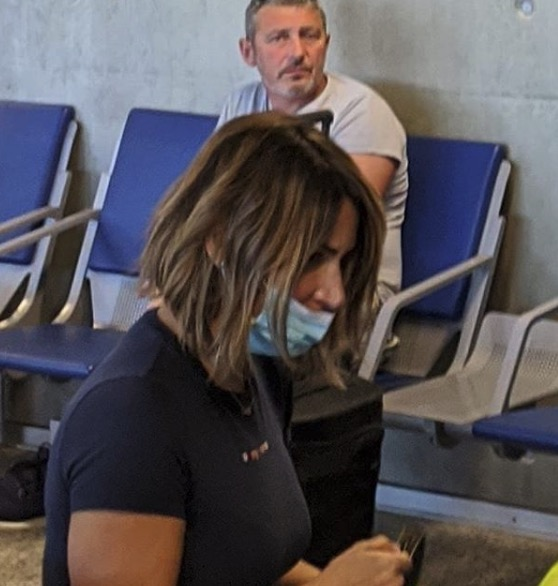mask_weared_incorrect: (259, 244, 359, 363)
without_mask: (252, 16, 330, 91)
